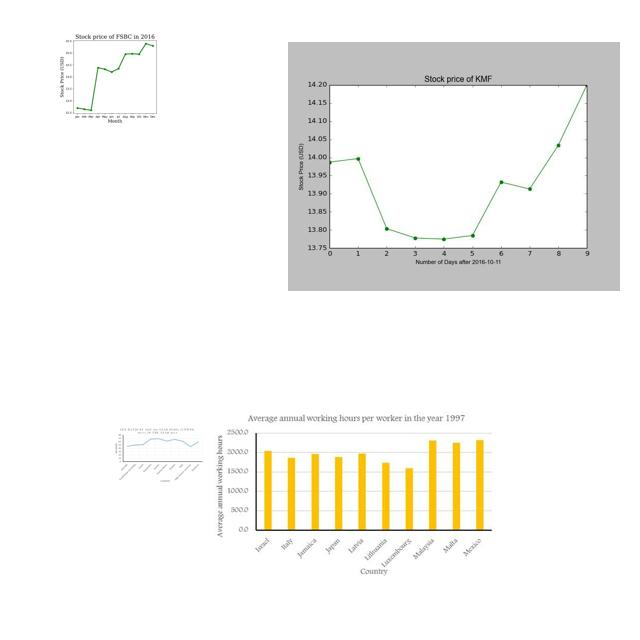Graph: (288, 42, 620, 291), (214, 411, 496, 577), (50, 29, 177, 124), (112, 427, 204, 483)
